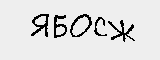Б: (51, 13, 69, 39)
Ж: (105, 18, 137, 44)
О: (69, 11, 91, 38)
С: (93, 12, 107, 39)
Я: (29, 12, 52, 39)
